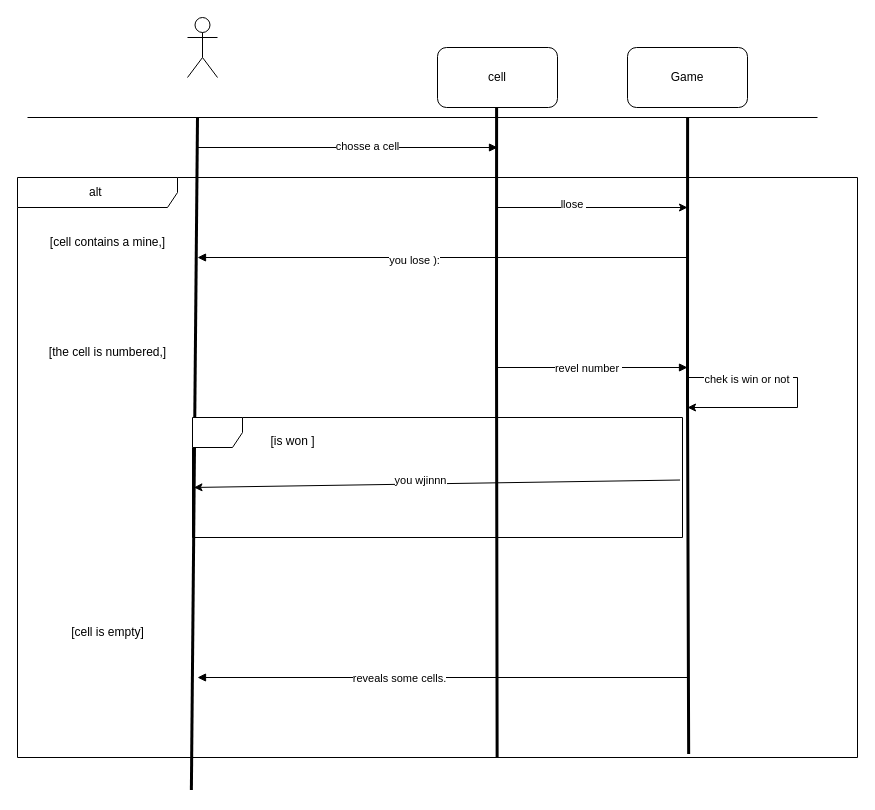
This 875x810 diagram has some shape labels left out. The shapes that lost their labels are listed below. From the top down, each one's centre as x and y in pixels, then its label:
At (x=202, y=47): "player".
At (x=437, y=477): "opt".
